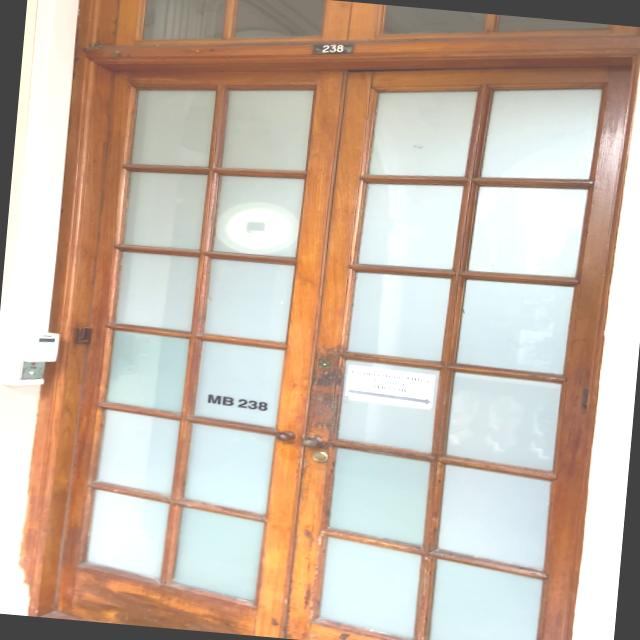room238: (314, 41, 354, 58)
